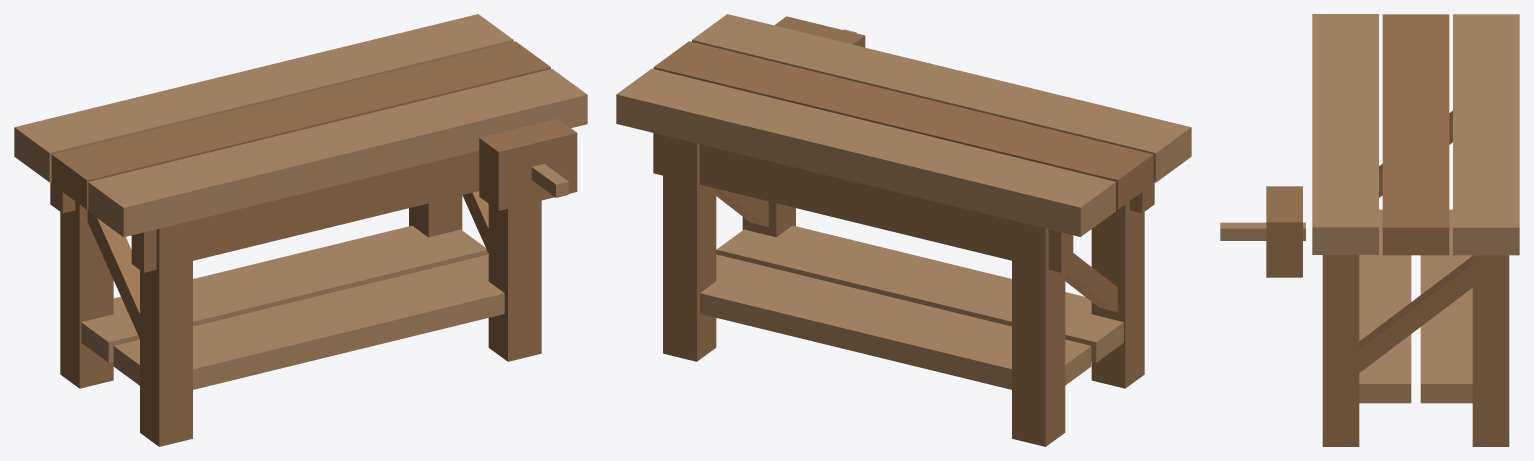
File: Woodland_Workbench.glb
The picture shows the model from 3 angles, left to right: view 1: azimuth 30°, elevation 25°; view 2: azimuth 150°, elevation 25°; view 3: azimuth 270°, elevation 25°; orthographic projection. The views are drawn at different scales.
Parts seen in each view (by area): view 1: Woodland_Workbench; view 2: Woodland_Workbench; view 3: Woodland_Workbench.
Part boxes in pixels (box(x1,y1,x2,y2)): Woodland_Workbench: box(14, 14, 587, 446); Woodland_Workbench: box(616, 14, 1191, 446); Woodland_Workbench: box(1220, 14, 1519, 446).
Bounding box in the file's own units: 1.65 × 0.86 × 0.979.
